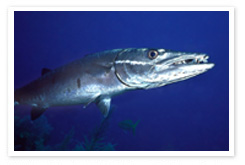fish: (14, 45, 215, 119)
